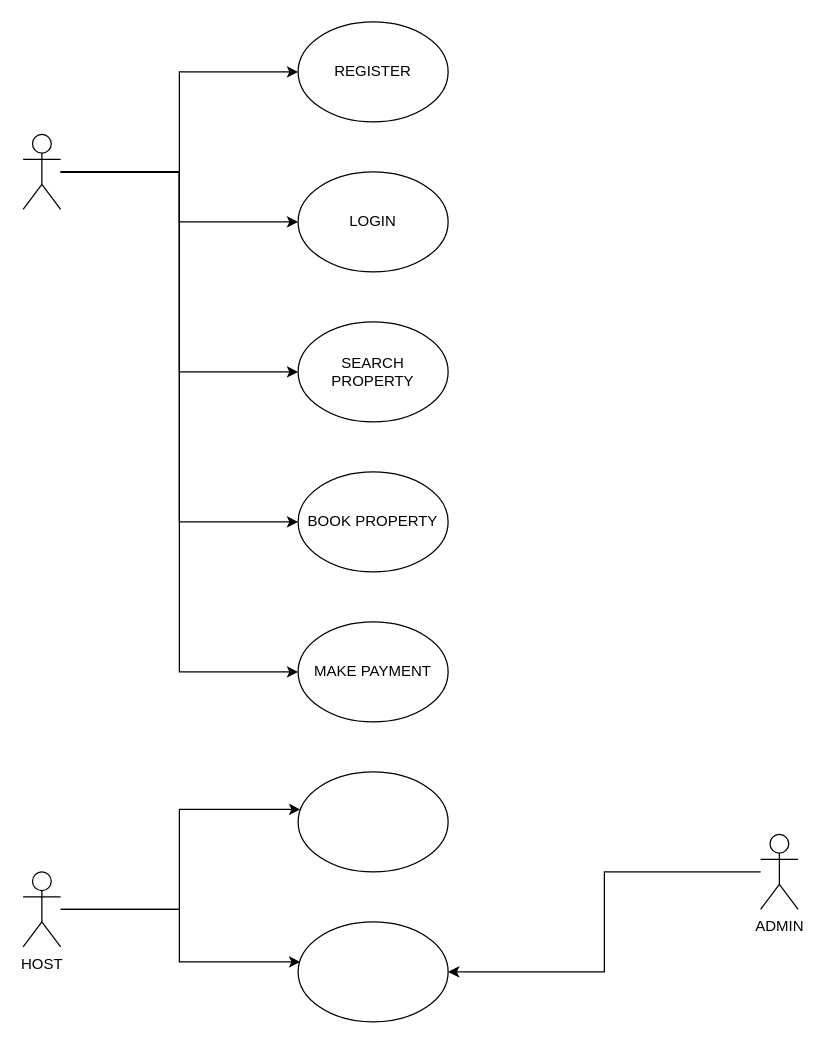
Image size: 825x1044. Some labels were removed from this diagram. Each missing label, with the centre of its shape:
"ADD LISTING" goes at point (372, 821).
"MANAGE LISTINGS" goes at point (372, 971).
"USER" goes at point (41, 171).
